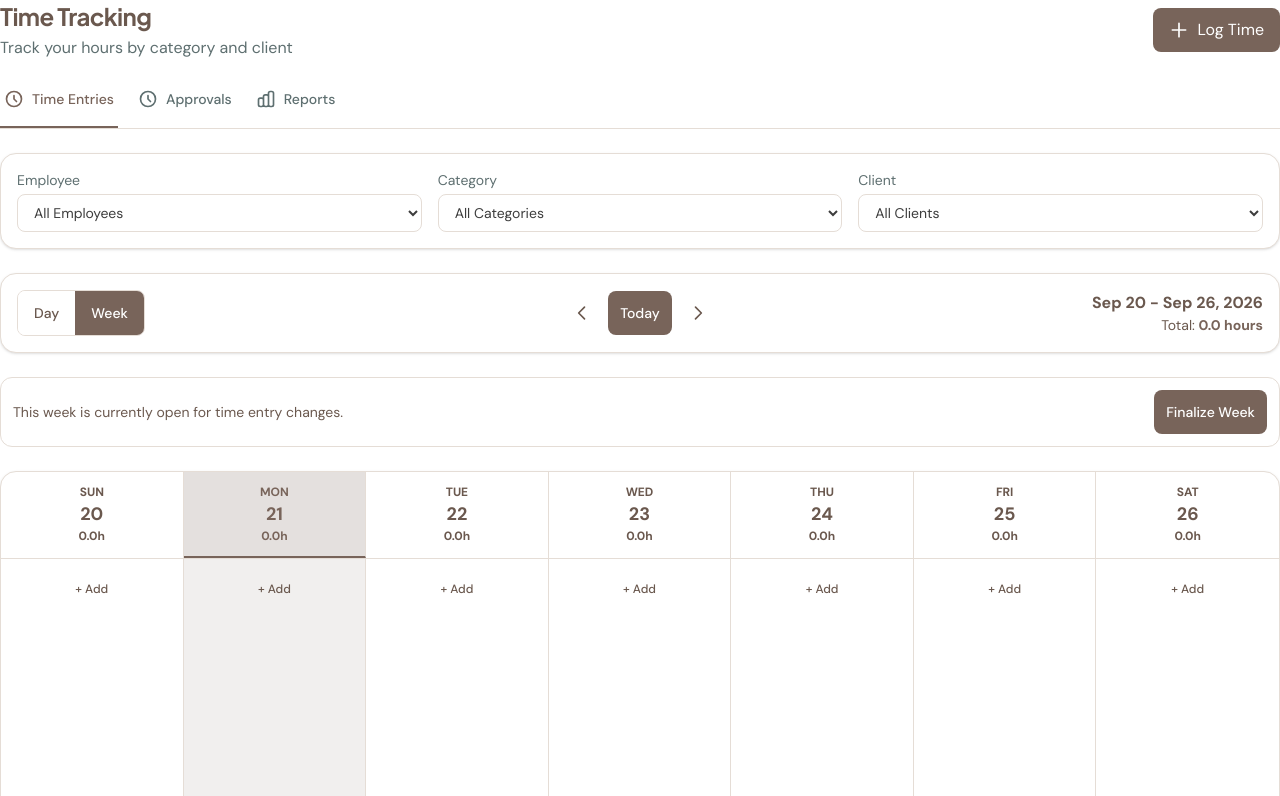
Scenario: TimeTracking reports › does not let an older long-running report replace newer filter results
This screenshot has width=1280, height=796.
Click the button "Reports". click: (296, 106)
box: [252, 84, 339, 128]
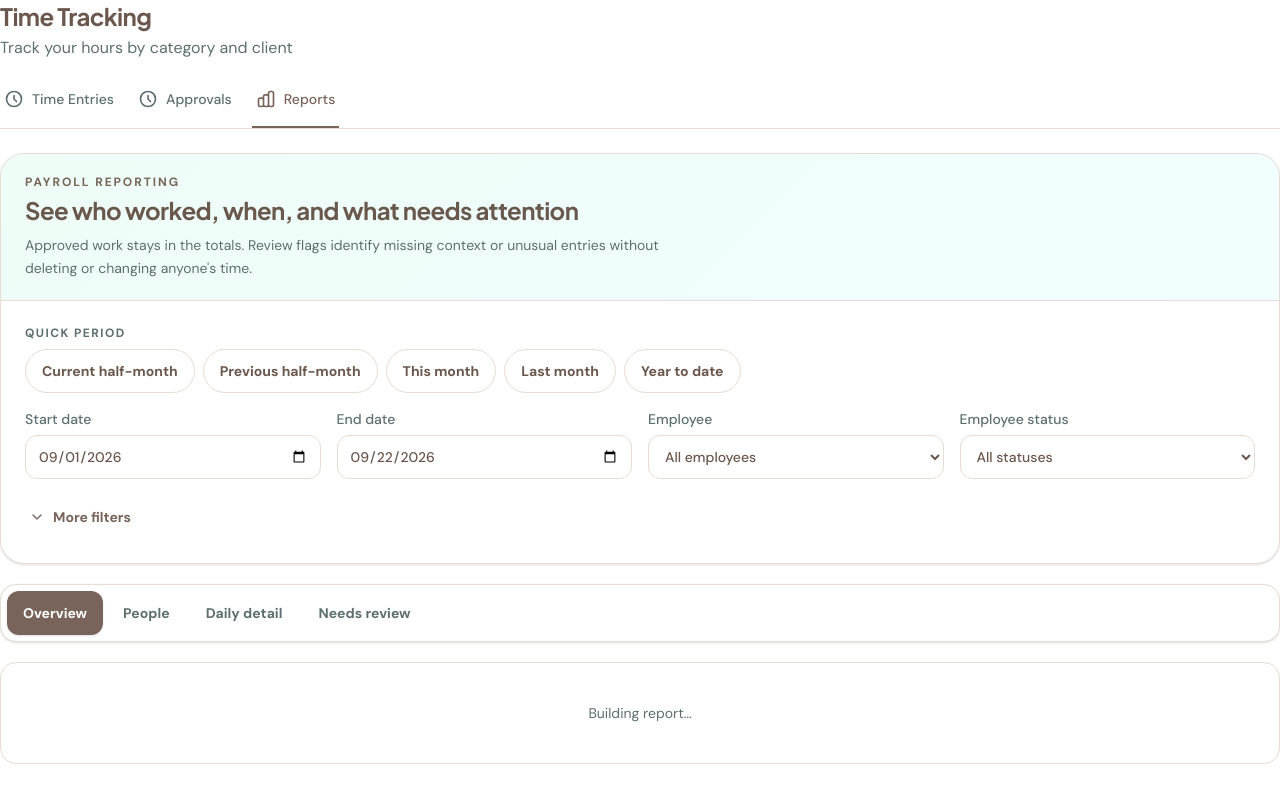
Type "2026-12-31" into the date field labelled "End date". click: (484, 456)
box: [336, 434, 632, 478]
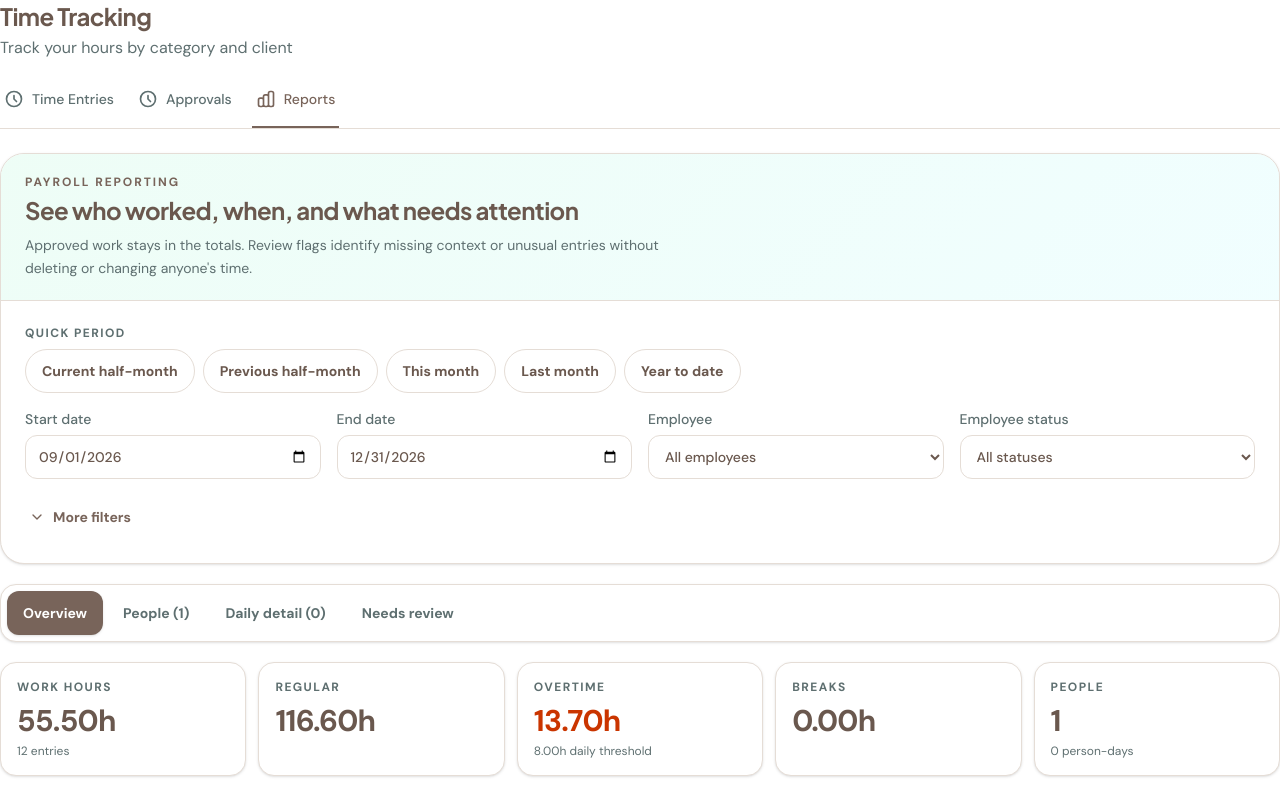
Expected: the text "55.50h" is shown, [17, 700, 116, 740]
